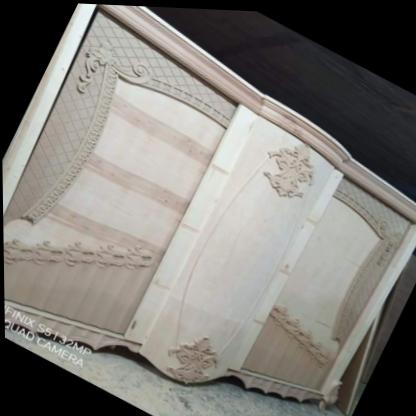Closet: (2, 3, 416, 408)
